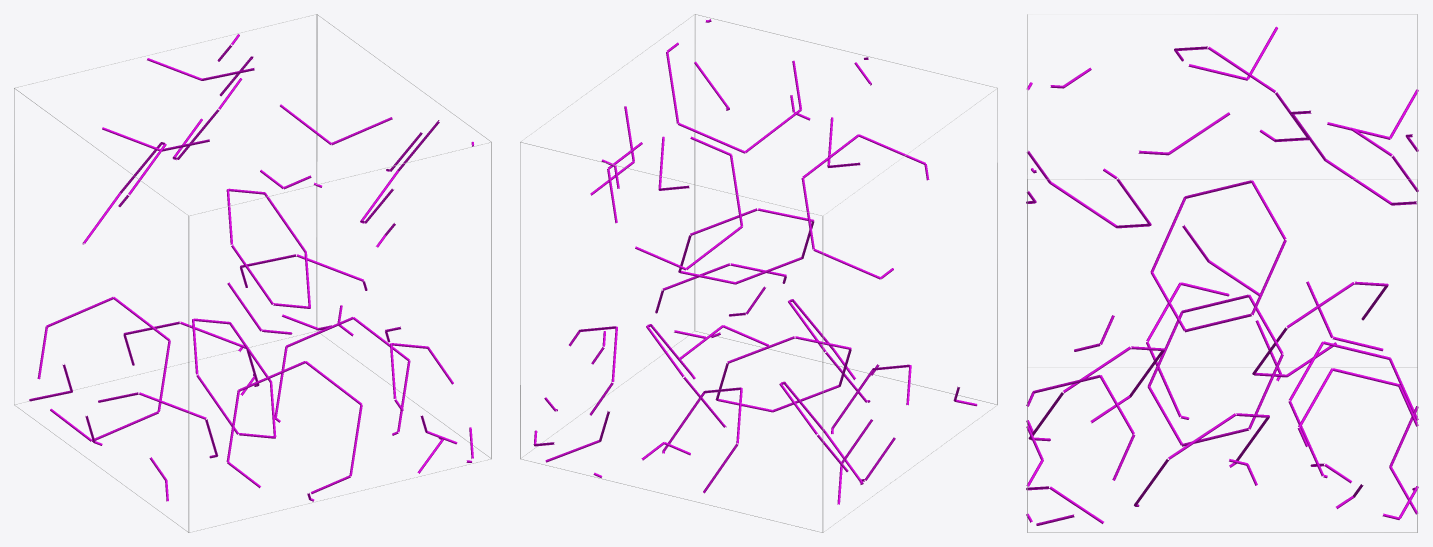
The model's file is config01.glb.
3 views of the same model, side by side, from view 1: azimuth 30°, elevation 25°; view 2: azimuth 150°, elevation 25°; view 3: azimuth 270°, elevation 25° (orthographic). The views are drawn at different scales.
Parts seen in each view (by area): view 1: Shape_IndexedLineSet.001, Shape_IndexedLineSet; view 2: Shape_IndexedLineSet.001, Shape_IndexedLineSet; view 3: Shape_IndexedLineSet.001, Shape_IndexedLineSet.
Boxes of the visible parts, x1=… form: Shape_IndexedLineSet.001: x1=29, y1=34, x2=473, y2=501; Shape_IndexedLineSet: x1=14, y1=14, x2=491, y2=532; Shape_IndexedLineSet.001: x1=533, y1=19, x2=977, y2=504; Shape_IndexedLineSet: x1=520, y1=14, x2=997, y2=532; Shape_IndexedLineSet.001: x1=1026, y1=26, x2=1418, y2=525; Shape_IndexedLineSet: x1=1027, y1=14, x2=1417, y2=532.
Bounding box in the file's own units: 302 × 302 × 302.
